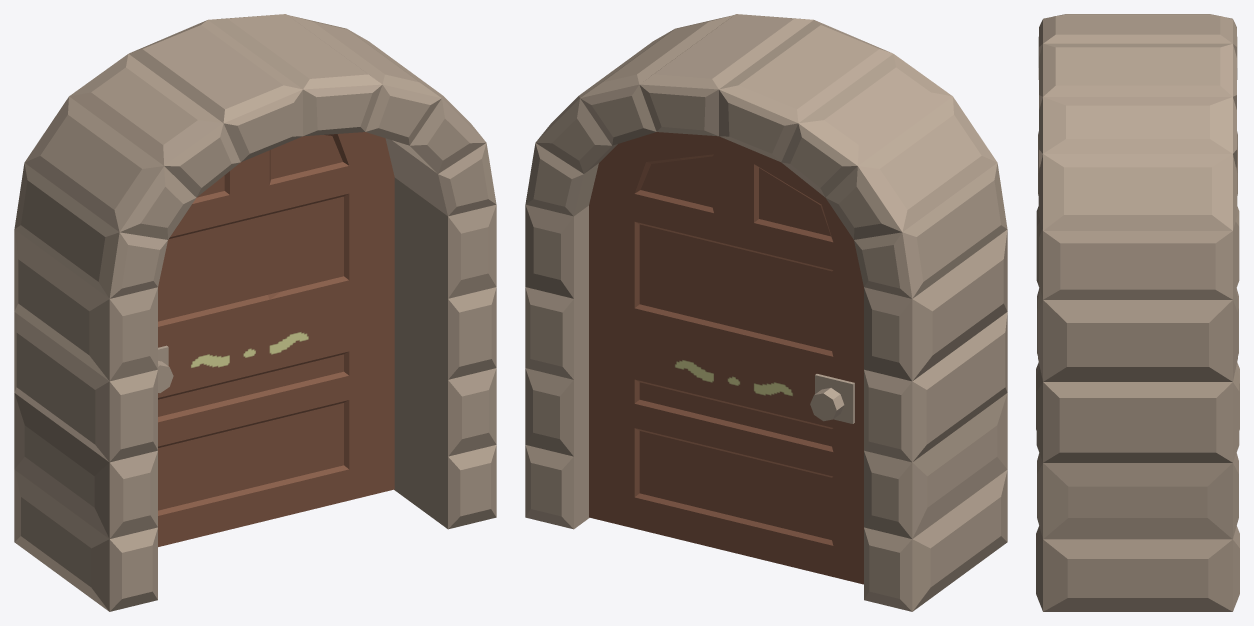
Rendered from Door.fbx.
3 views of the same model, side by side, from view 1: azimuth 30°, elevation 25°; view 2: azimuth 150°, elevation 25°; view 3: azimuth 270°, elevation 25° (orthographic).
Visible parts, largest first — view 1: StoneArc, DoorPiece1, DoorPiece2, DoorPiece3, Door; view 2: StoneArc, Door; view 3: StoneArc.
Boxes of the visible parts, x1=… form: StoneArc: x1=14, y1=14, x2=496, y2=611; DoorPiece1: x1=158, y1=319, x2=394, y2=546; DoorPiece2: x1=165, y1=132, x2=394, y2=330; DoorPiece3: x1=158, y1=252, x2=358, y2=456; Door: x1=158, y1=291, x2=394, y2=542; StoneArc: x1=525, y1=14, x2=1007, y2=611; Door: x1=589, y1=132, x2=863, y2=584; StoneArc: x1=1036, y1=14, x2=1239, y2=611.
Bounding box in the file's own units: 2433 × 2756 × 1067.
